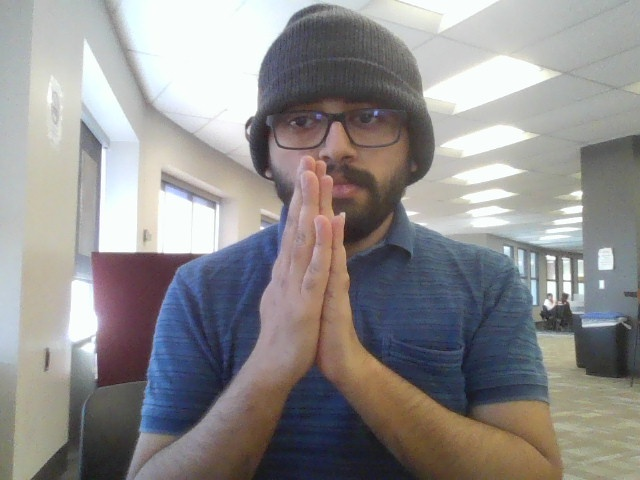start: (249, 151, 376, 398)
